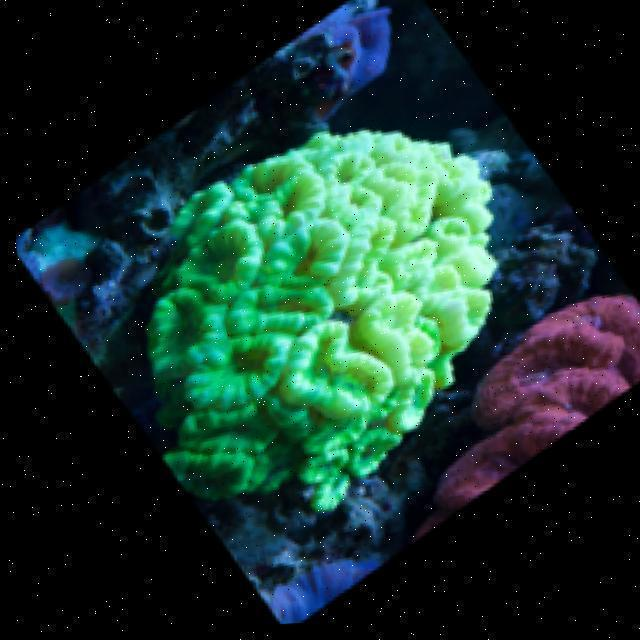Healthy Coral: (149, 131, 497, 511), (415, 296, 640, 538)
